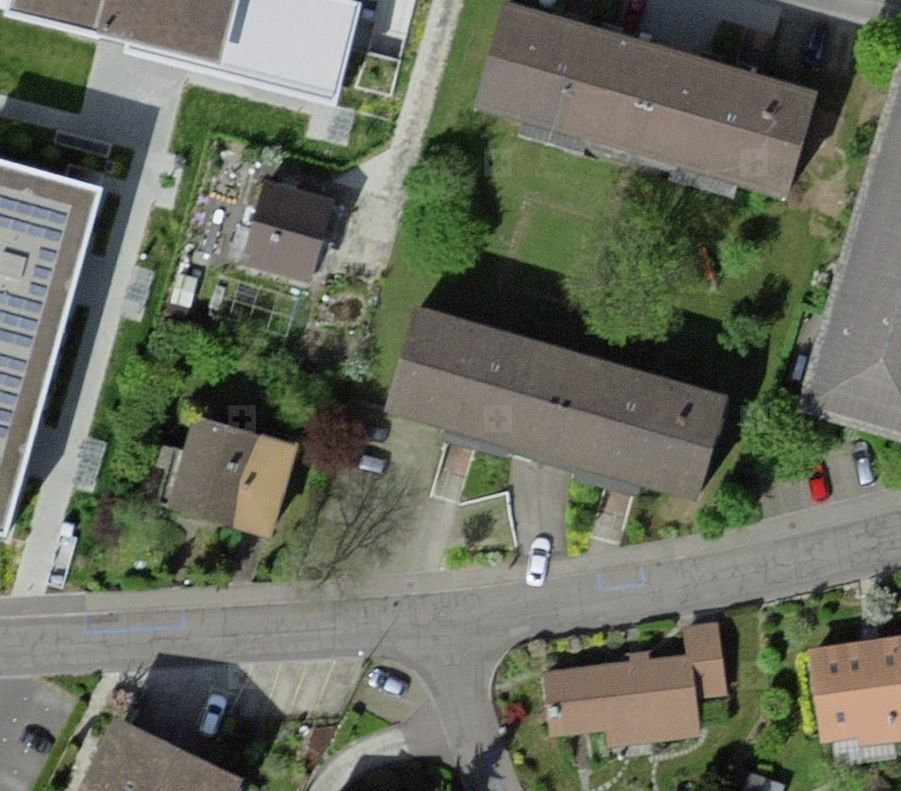solar: (1, 196, 72, 458)
